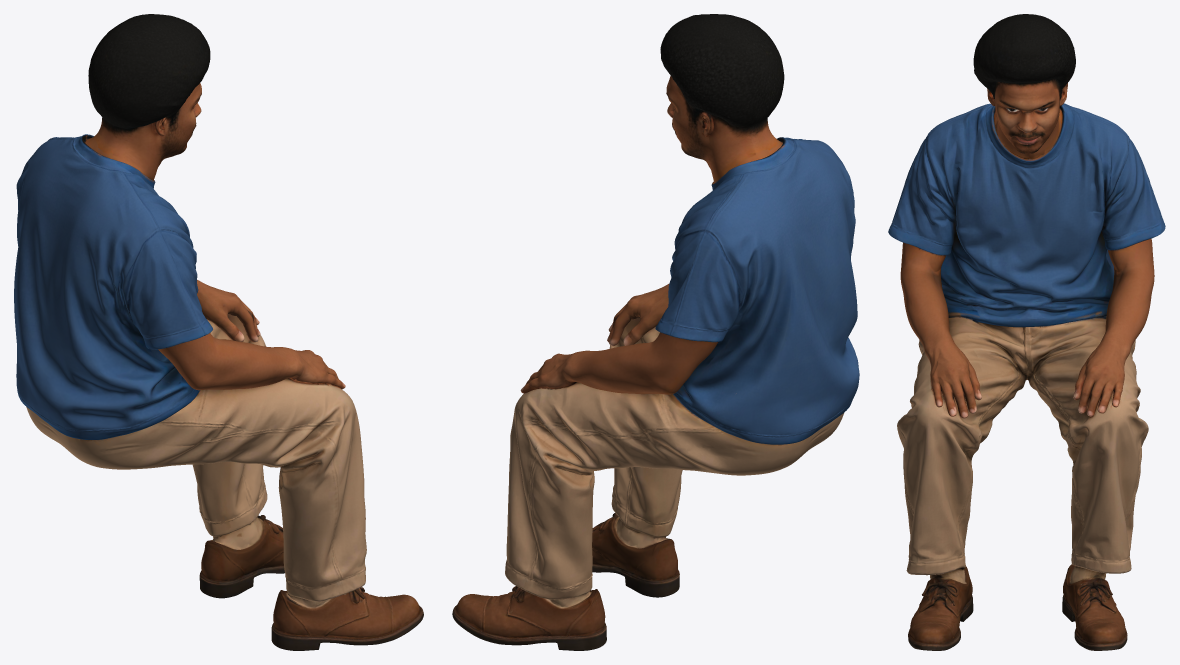
File: sitting01.fbx
3 renders of one model, left to right at view 1: azimuth 30°, elevation 25°; view 2: azimuth 150°, elevation 25°; view 3: azimuth 270°, elevation 25°, orthographic. The views are drawn at different scales.
Parts seen in each view (by area): view 1: tripo_node_076978b3-9a04-4138-88e7-e2a56635de42; view 2: tripo_node_076978b3-9a04-4138-88e7-e2a56635de42; view 3: tripo_node_076978b3-9a04-4138-88e7-e2a56635de42.
Boxes of the visible parts, <box> form: tripo_node_076978b3-9a04-4138-88e7-e2a56635de42: <box>14,14,423,650</box>; tripo_node_076978b3-9a04-4138-88e7-e2a56635de42: <box>452,14,859,650</box>; tripo_node_076978b3-9a04-4138-88e7-e2a56635de42: <box>888,14,1165,650</box>.
Bounding box in the file's own units: 55.94 × 97.93 × 44.89.
1 material, 1 textured.
